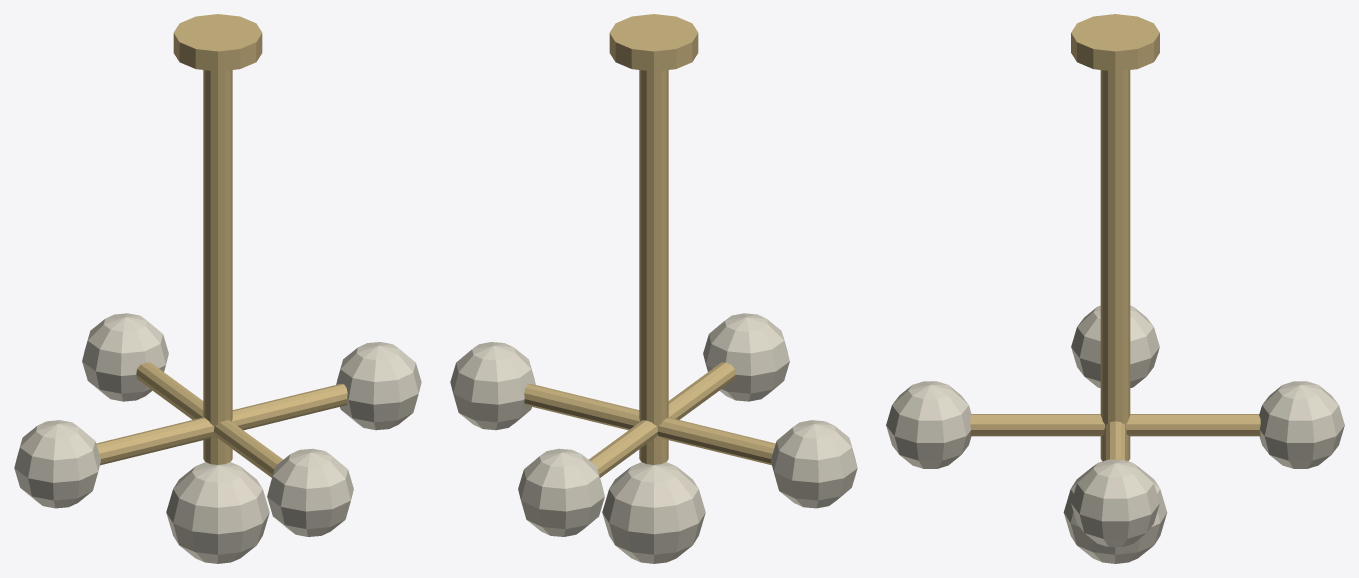
The model's file is ilu_lustre2.glb.
The picture shows the model from 3 angles, left to right: view 1: azimuth 30°, elevation 25°; view 2: azimuth 150°, elevation 25°; view 3: azimuth 270°, elevation 25°; orthographic projection.
Parts seen in each view (by area): view 1: ILU_Lustre2_v01; view 2: ILU_Lustre2_v01; view 3: ILU_Lustre2_v01.
Part boxes in pixels (bbox=[...]): ILU_Lustre2_v01: bbox=[14, 14, 421, 563]; ILU_Lustre2_v01: bbox=[450, 14, 857, 563]; ILU_Lustre2_v01: bbox=[886, 14, 1344, 563].
Size of the model in its own units: 0.6141 by 0.785 by 0.62.
